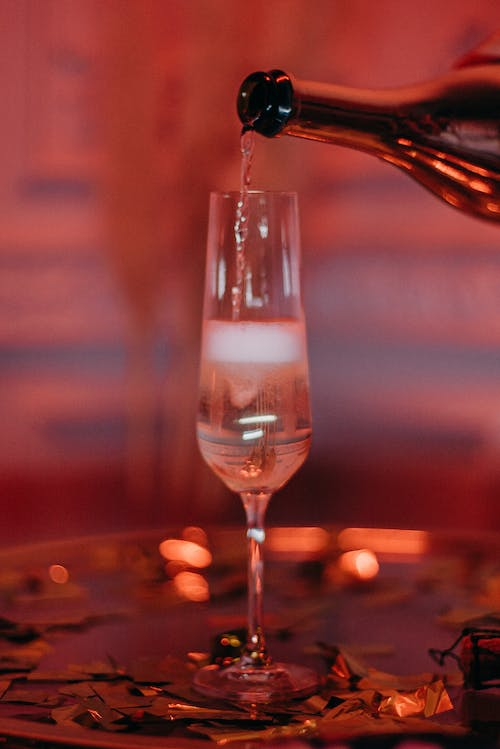alcohol: (190, 187, 323, 695), (233, 62, 500, 231)
